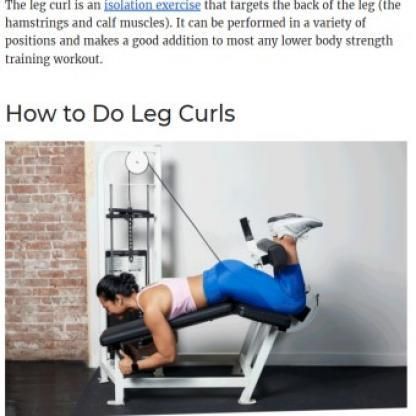reg curl machine: (81, 146, 333, 409)
